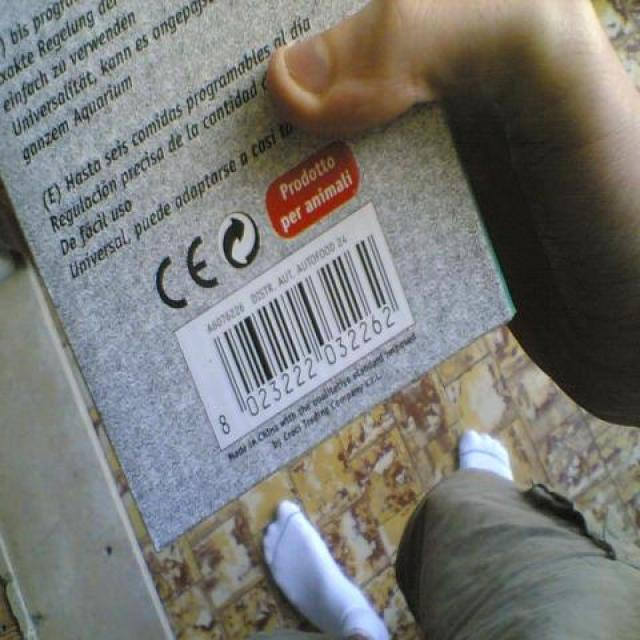Barcode: (175, 197, 417, 453)
